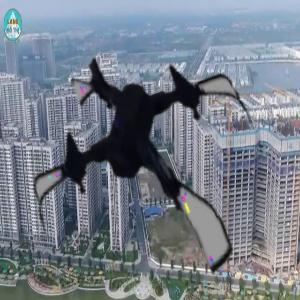drone: (22, 42, 274, 294)
